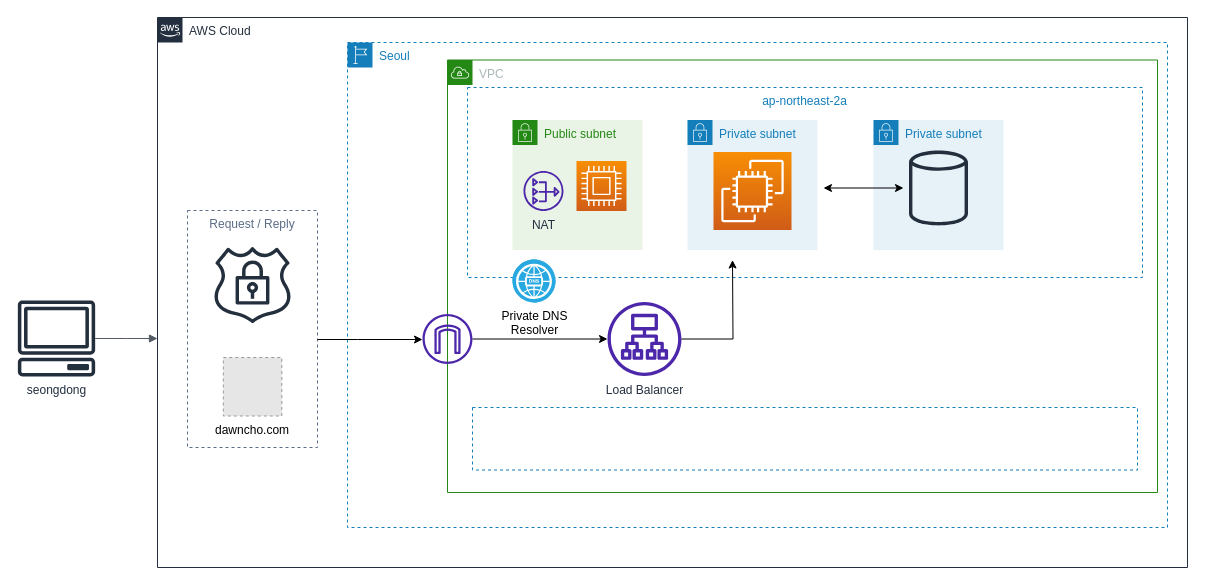
Image size: 1205x585. Some labels were removed from this diagram. Grey dashed boxes stand in for pictures. Here are the shapes that lost their labels. From the top down, the centre of each, then its label:
At (601,185): "Bastion Host".
At (752,190): "WAS / Django".
At (938,187): "DB".
At (252,284): "SSL".
At (447,339): "Internet Gateway".
At (805,438): "ap-northeast-2c".
